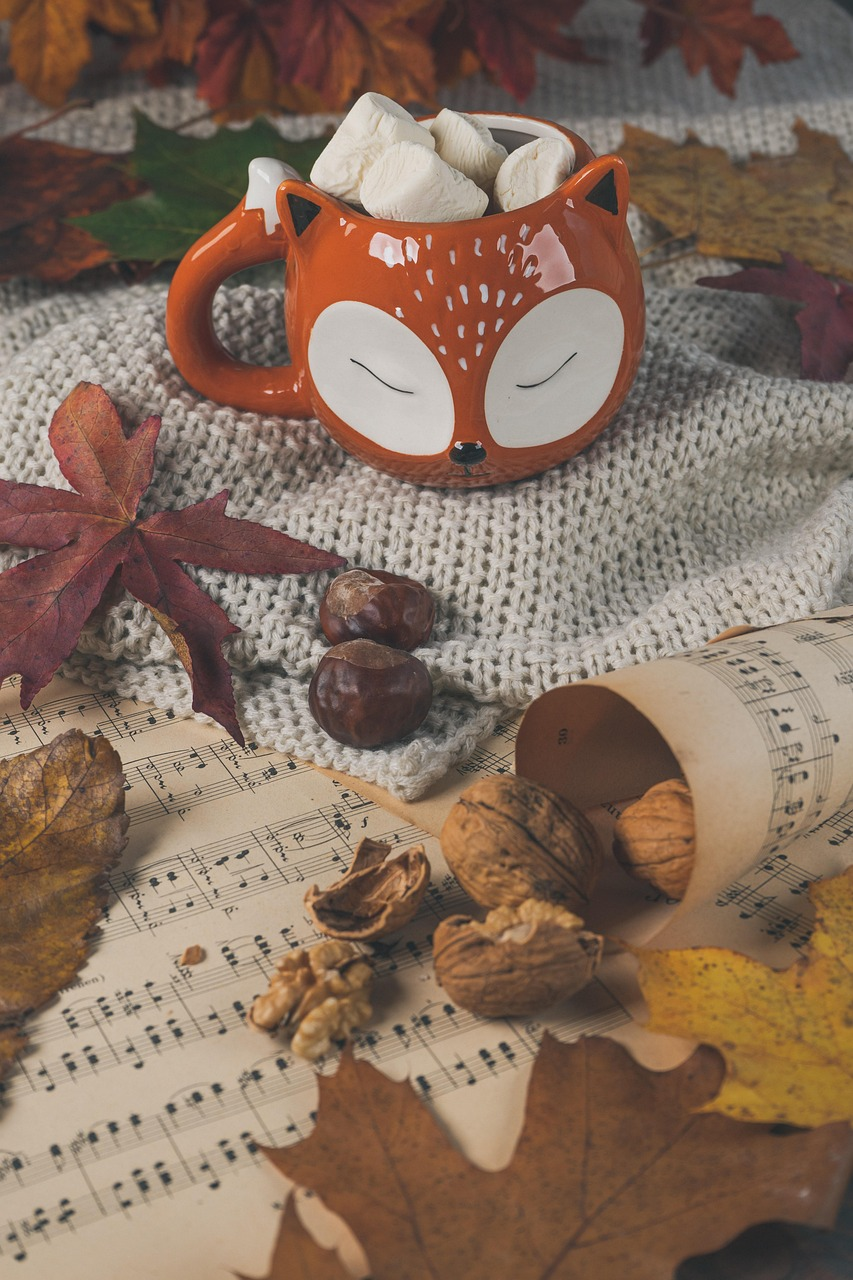mug: (134, 113, 658, 492)
